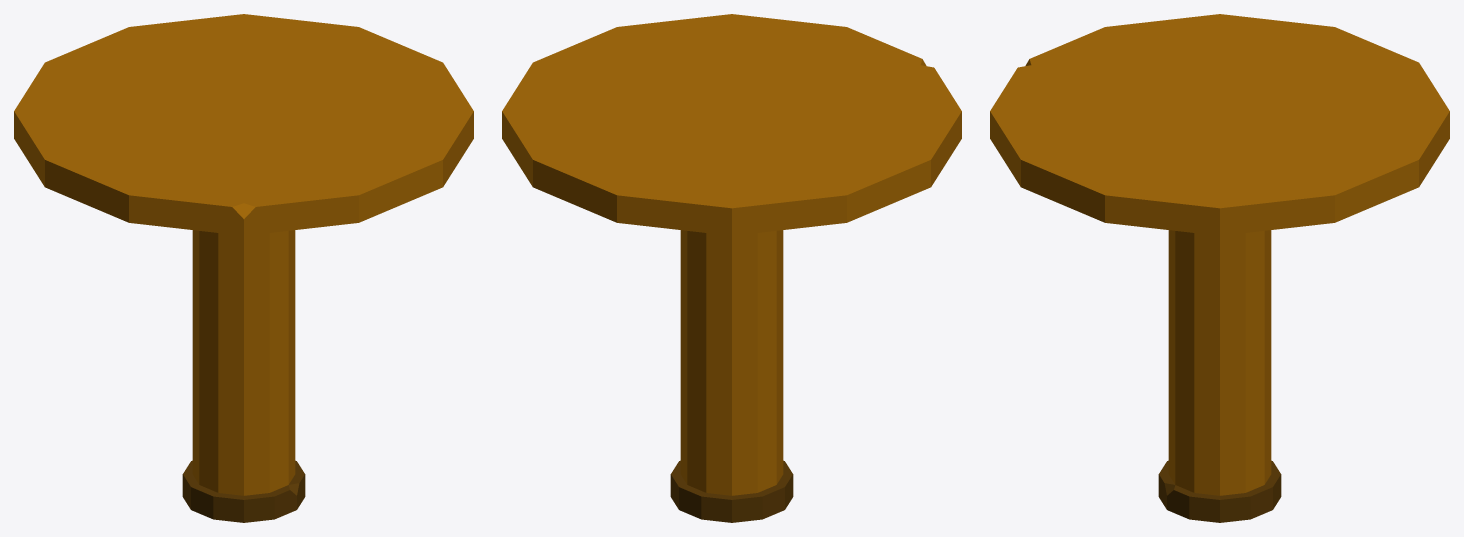
Rendered from Table_03.fbx.
3 renders of one model, left to right at view 1: azimuth 30°, elevation 25°; view 2: azimuth 150°, elevation 25°; view 3: azimuth 270°, elevation 25°, orthographic.
Parts seen in each view (by area): view 1: Table_03; view 2: Table_03; view 3: Table_03.
Part boxes in pixels (x1,y1,x2,y2): Table_03: (14, 14, 473, 522); Table_03: (502, 14, 961, 522); Table_03: (990, 14, 1449, 522).
Bounding box in the file's own units: 90.55 × 83.86 × 90.55.
